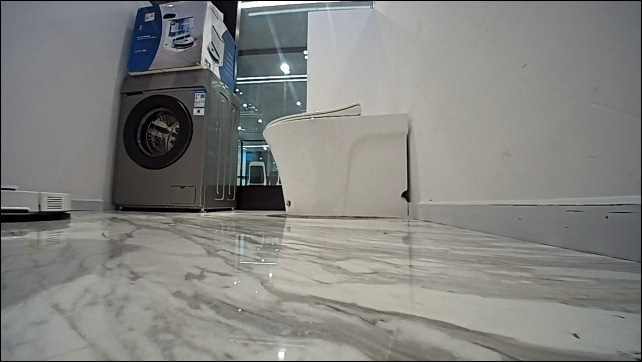toilet: (260, 100, 412, 220)
washing_machine: (108, 66, 241, 214)
